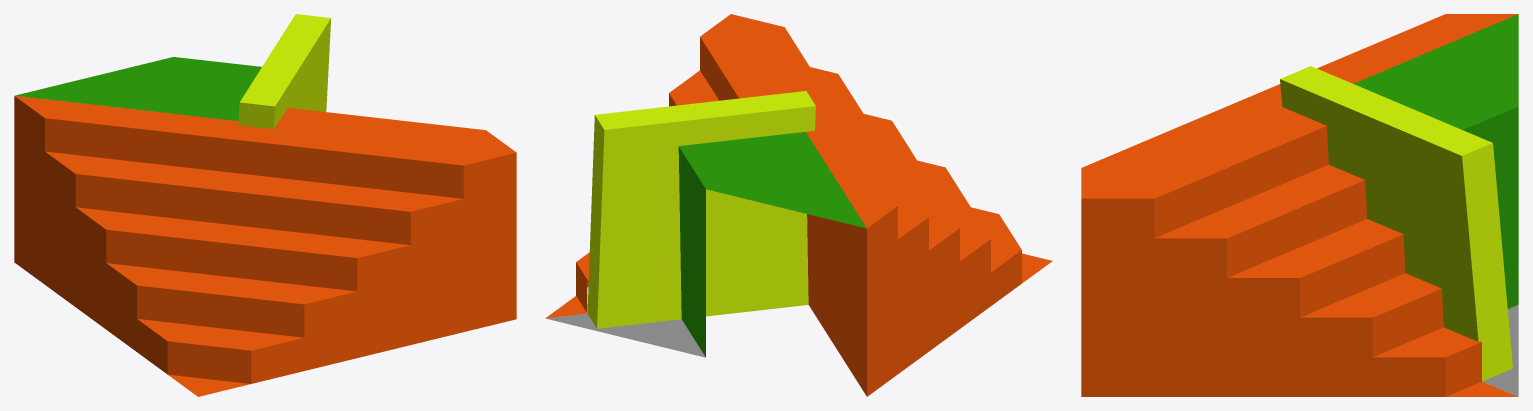
The picture shows the model from 3 angles, left to right: view 1: azimuth 30°, elevation 25°; view 2: azimuth 150°, elevation 25°; view 3: azimuth 270°, elevation 25°; orthographic projection. The views are drawn at different scales.
Visible parts, largest first — view 1: T_a_7_0; view 2: T_a_7_0; view 3: T_a_7_0.
Part boxes in pixels (<box>): T_a_7_0: <box>14,14,516,396</box>; T_a_7_0: <box>545,14,1052,396</box>; T_a_7_0: <box>1081,14,1518,396</box>.
Size of the model in its own units: 99.81 by 56.97 by 99.81.
